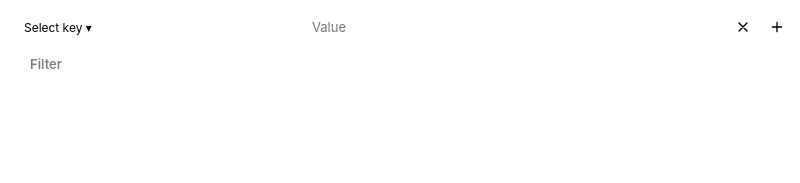
Test: HeaderFilterPanel › offers the topic's header keys in the dropdown
Click the button "Select key ▾" at (53, 27), box 12,12 -> 292,42
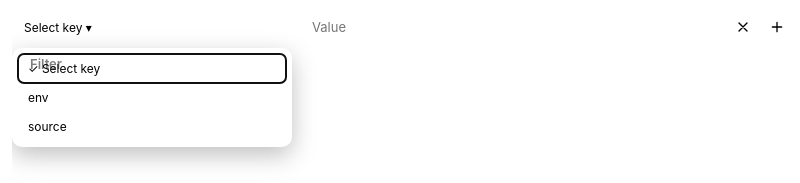
Expected: the options read "✓ Select key", "env", "source", in this order, 28,60 -> 100,76; 28,90 -> 49,104; 28,118 -> 67,134
